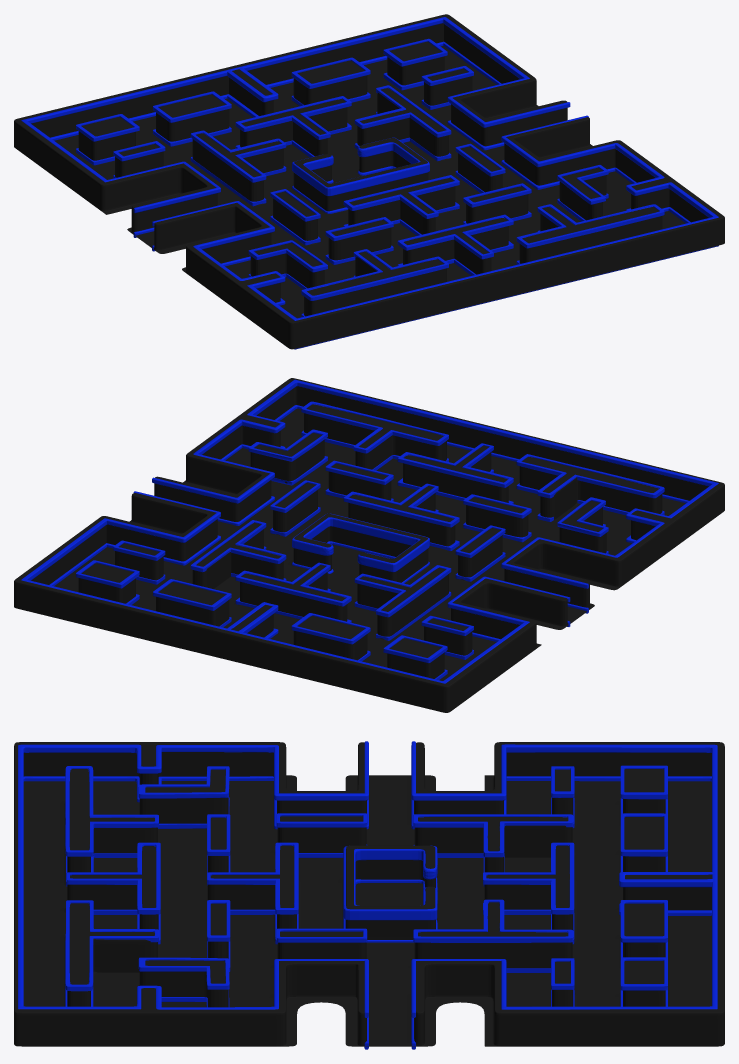
The model's file is mapa_Pacman.fbx.
The picture shows the model from 3 angles, top to bottom: view 1: azimuth 30°, elevation 25°; view 2: azimuth 150°, elevation 25°; view 3: azimuth 270°, elevation 25°; orthographic projection. The views are drawn at different scales.
Visible parts, largest first — view 1: Plano, Cubo; view 2: Plano, Cubo; view 3: Plano, Cubo.
Boxes of the visible parts, x1=… form: Plano: x1=14, y1=14, x2=724, y2=349; Cubo: x1=21, y1=17, x2=718, y2=349; Plano: x1=14, y1=378, x2=724, y2=712; Cubo: x1=21, y1=379, x2=718, y2=683; Plano: x1=14, y1=742, x2=724, y2=1046; Cubo: x1=18, y1=741, x2=717, y2=1049.
Bounding box in the file's own units: 1729 × 127 × 1915.
